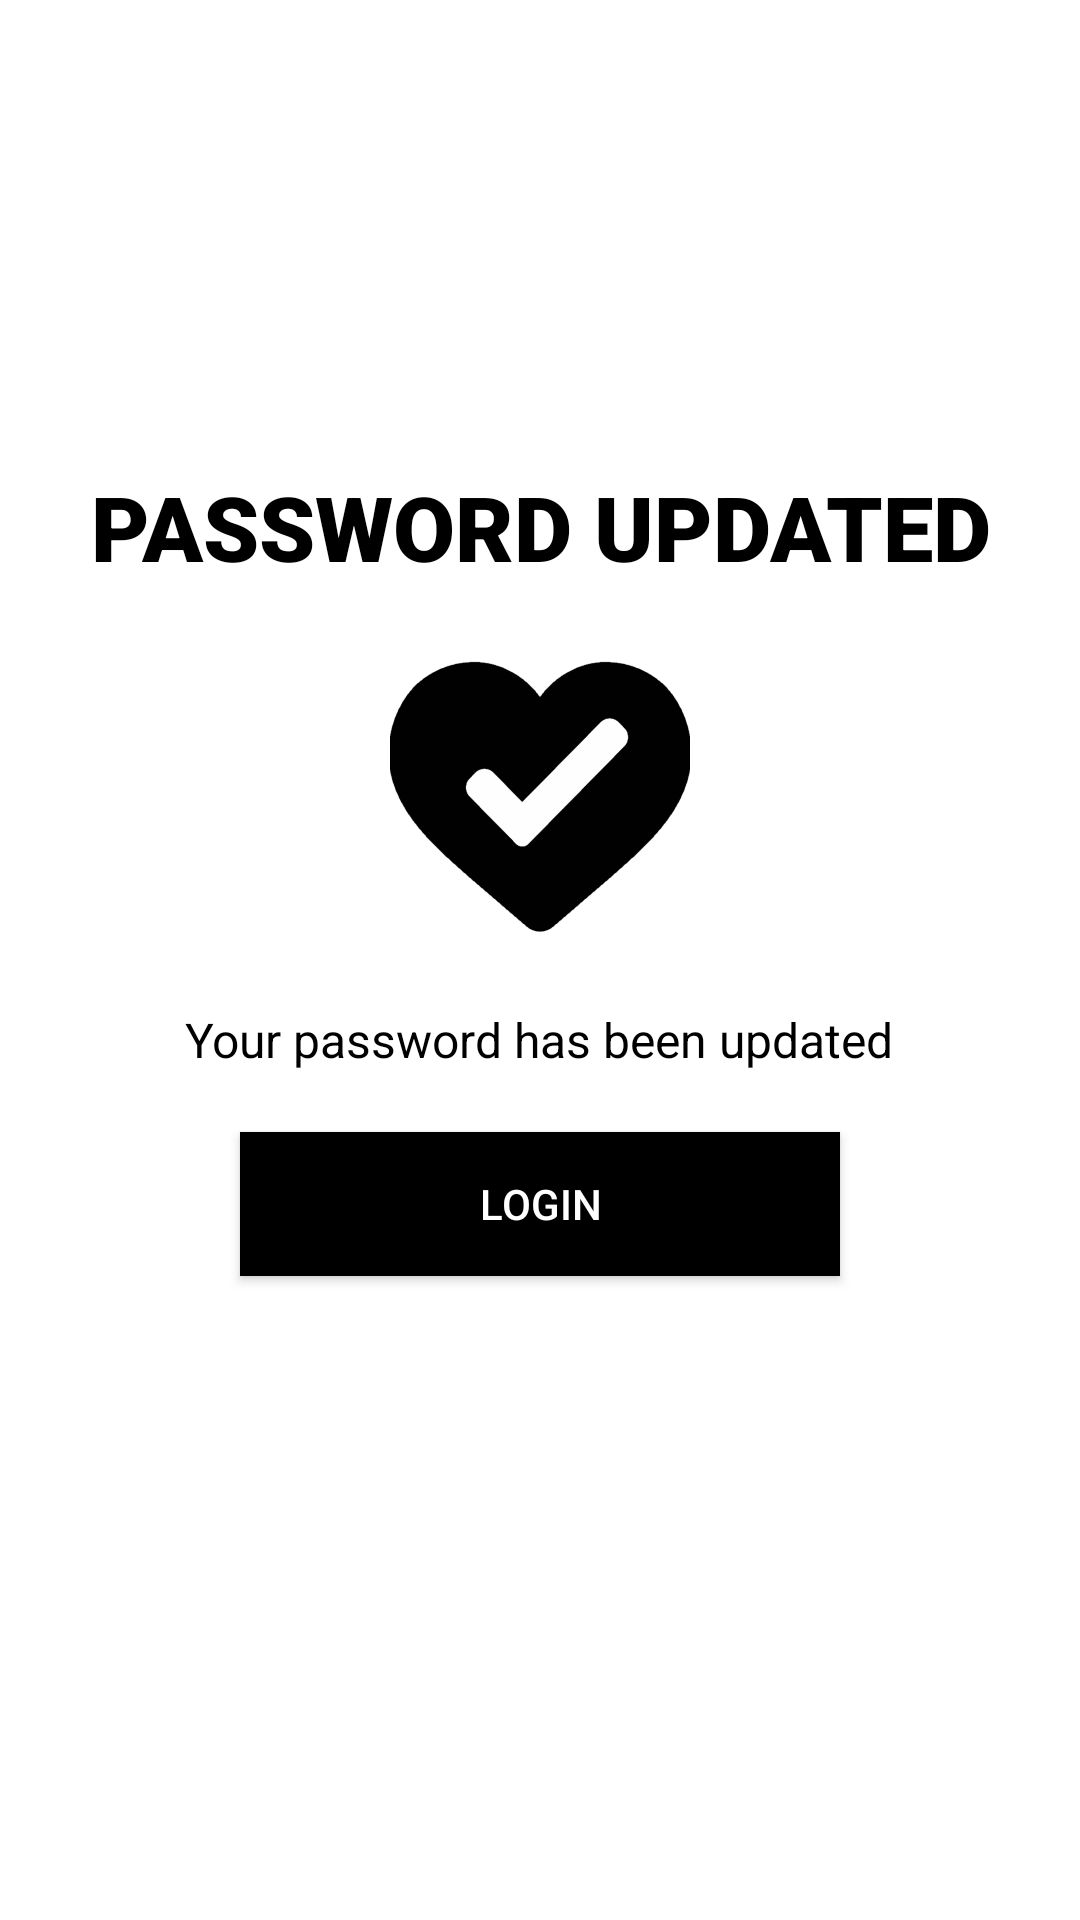

Named icons in this screenshot (1080x1920) and their centers, point (x, y):
heartwithtick: point (540, 797)
